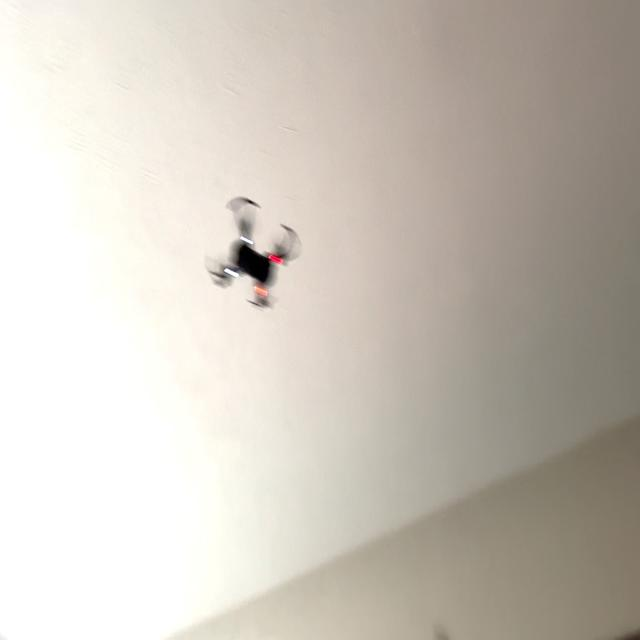drone: (196, 174, 308, 332)
